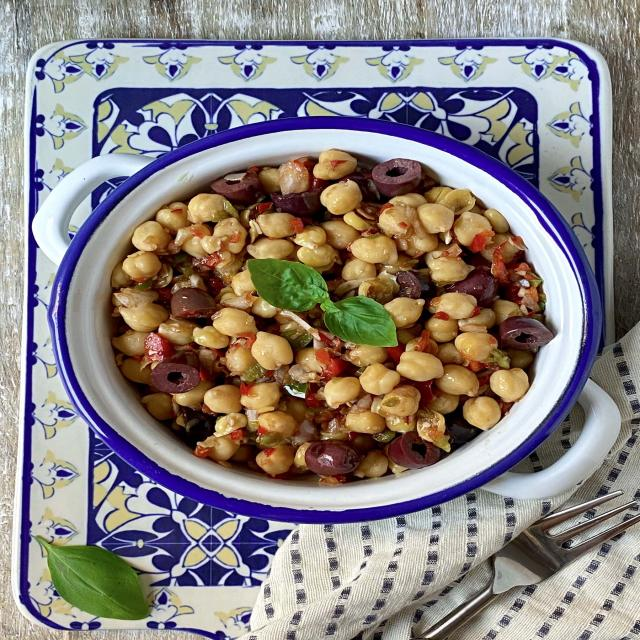garbanzos: (95, 144, 550, 497)
